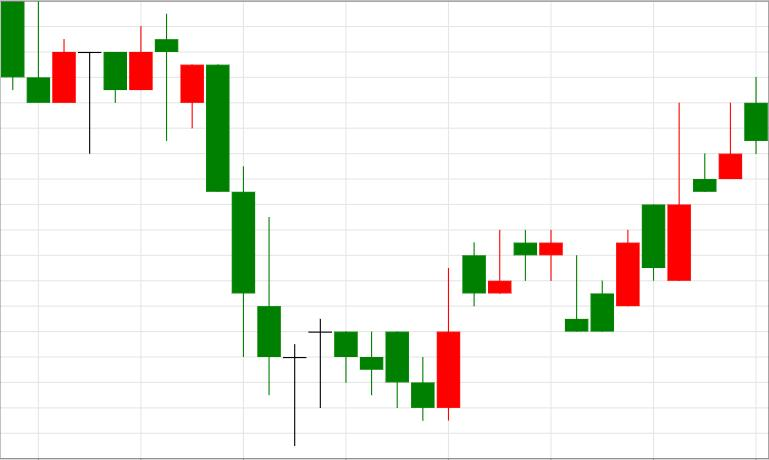bullish_engulfing_rise: (309, 267, 460, 422)
